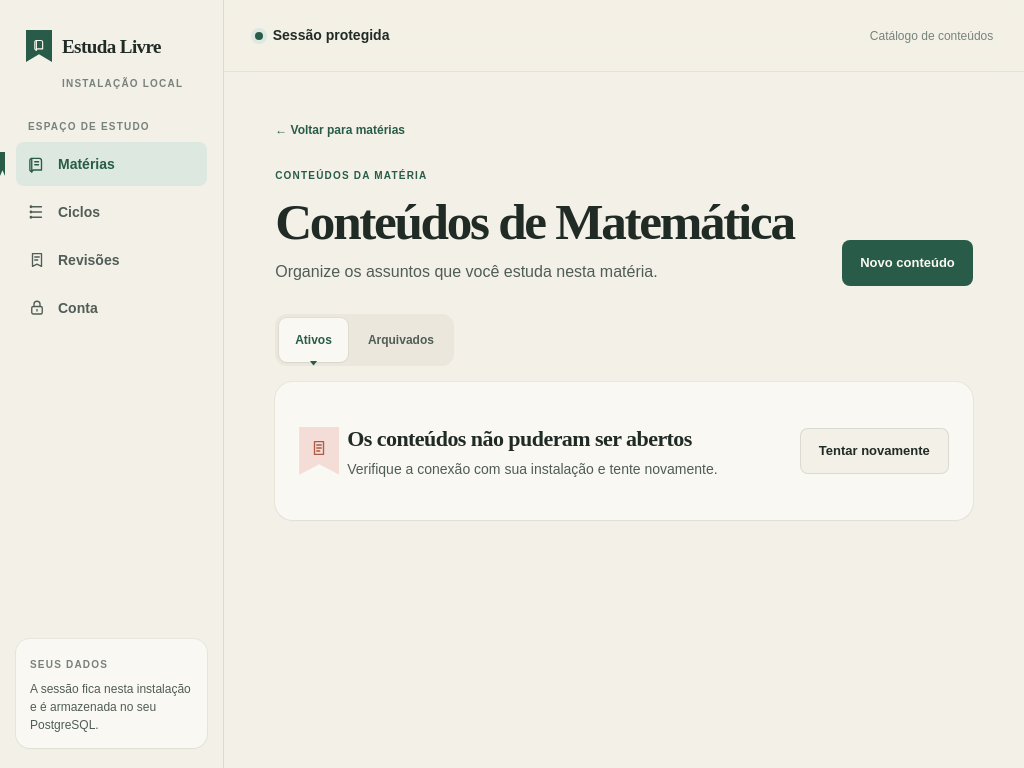
Test: authentication journey › recovers the content catalog after an error and then shows its empty state
Expected: the heading "Os conteúdos não puderam ser abertos" is shown, x1=347 y1=426 x2=718 y2=451
Click the button "Tentar novamente".
click(874, 451)  # box x1=800 y1=428 x2=949 y2=474
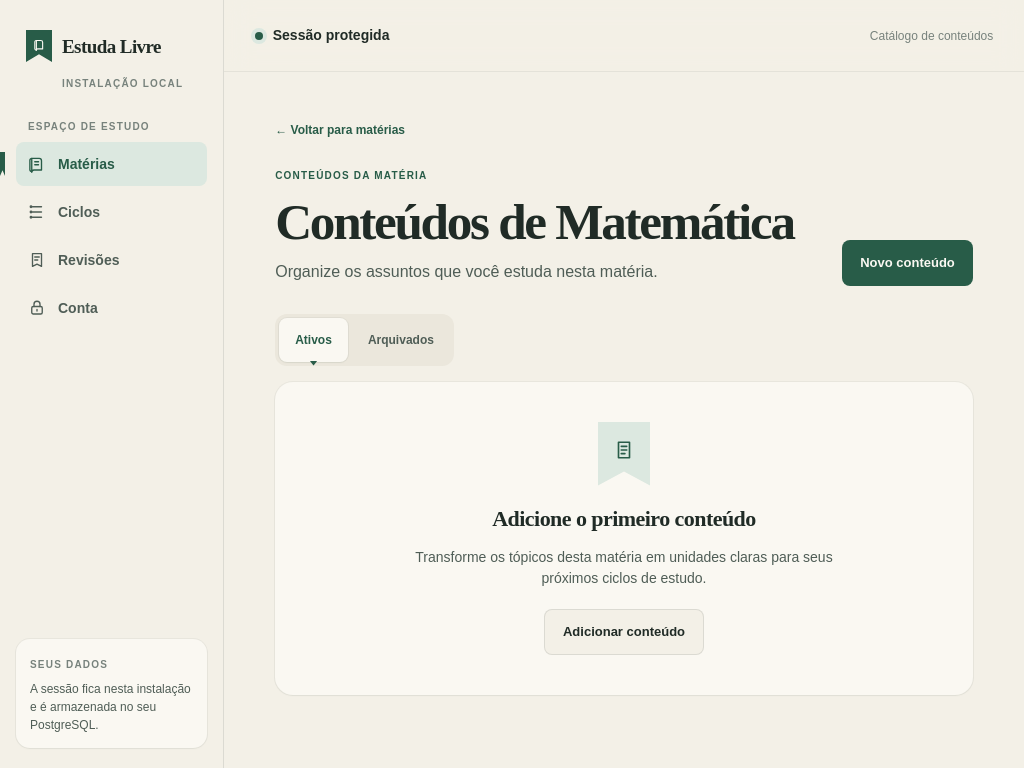
Result: the heading "Adicione o primeiro conteúdo" is shown at x1=492 y1=506 x2=756 y2=531
